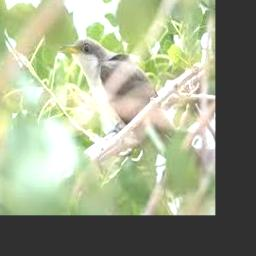Cuckoo: (59, 37, 175, 159)
